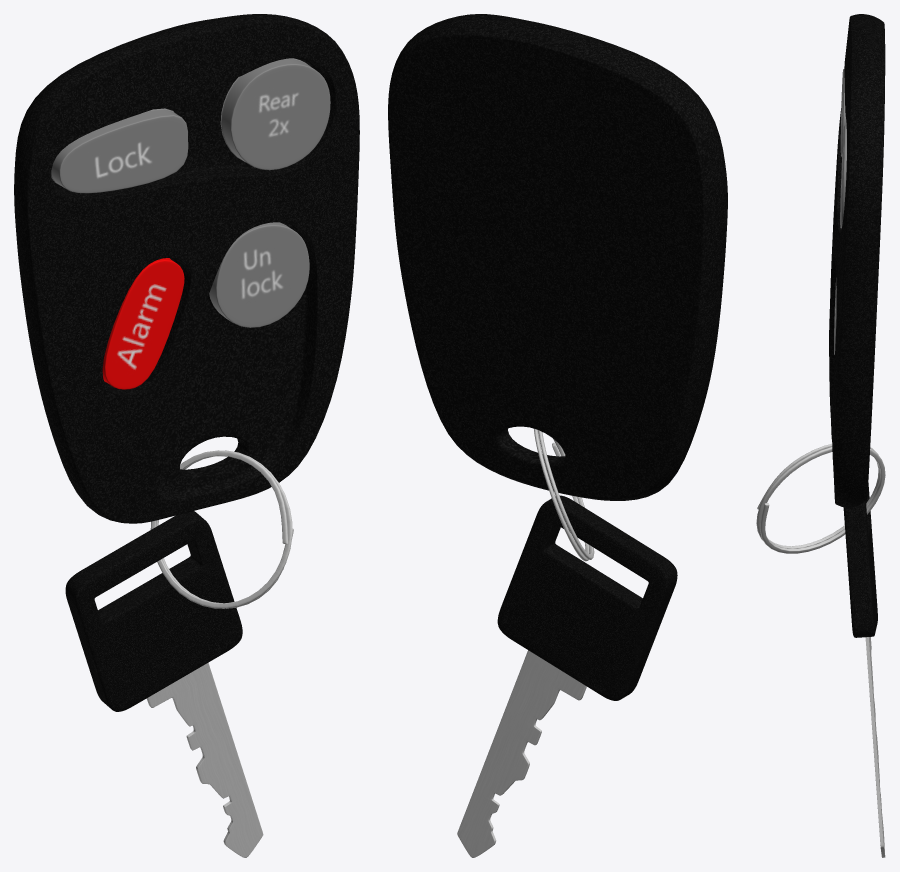
Rendered from keys.obj.
The picture shows the model from 3 angles, left to right: view 1: azimuth 30°, elevation 25°; view 2: azimuth 150°, elevation 25°; view 3: azimuth 270°, elevation 25°; orthographic projection. The views are drawn at different scales.
Visible parts, largest first — view 1: keys; view 2: keys; view 3: keys.
Part boxes in pixels (<box>): keys: <box>14,14,359,857</box>; keys: <box>388,14,727,857</box>; keys: <box>756,14,885,857</box>.
Bounding box in the file's own units: 2.11 × 5.14 × 0.7736.
1 material, 1 textured.
